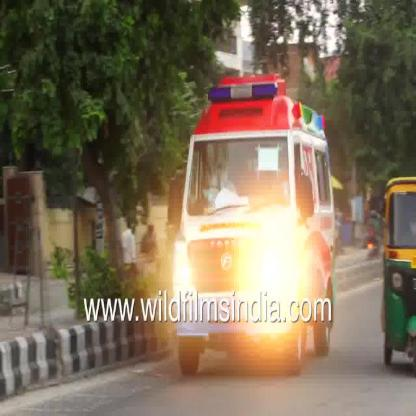priority: (170, 66, 338, 289)
